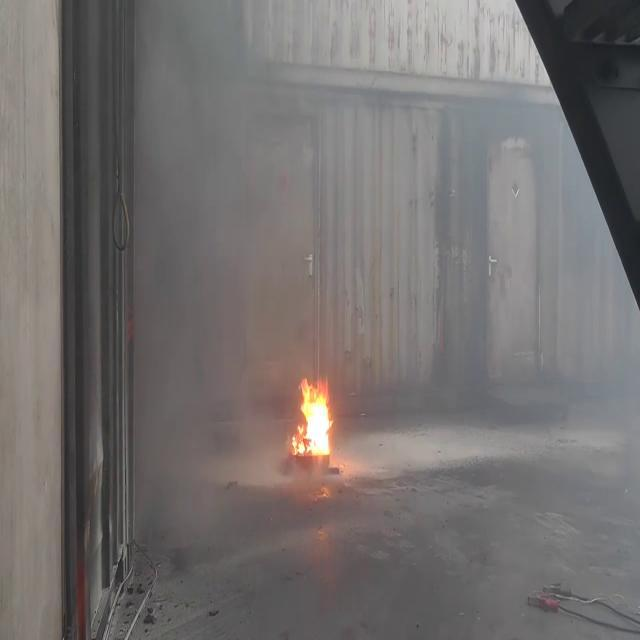Fire: (292, 373, 334, 459)
Smoke: (132, 2, 338, 372)
